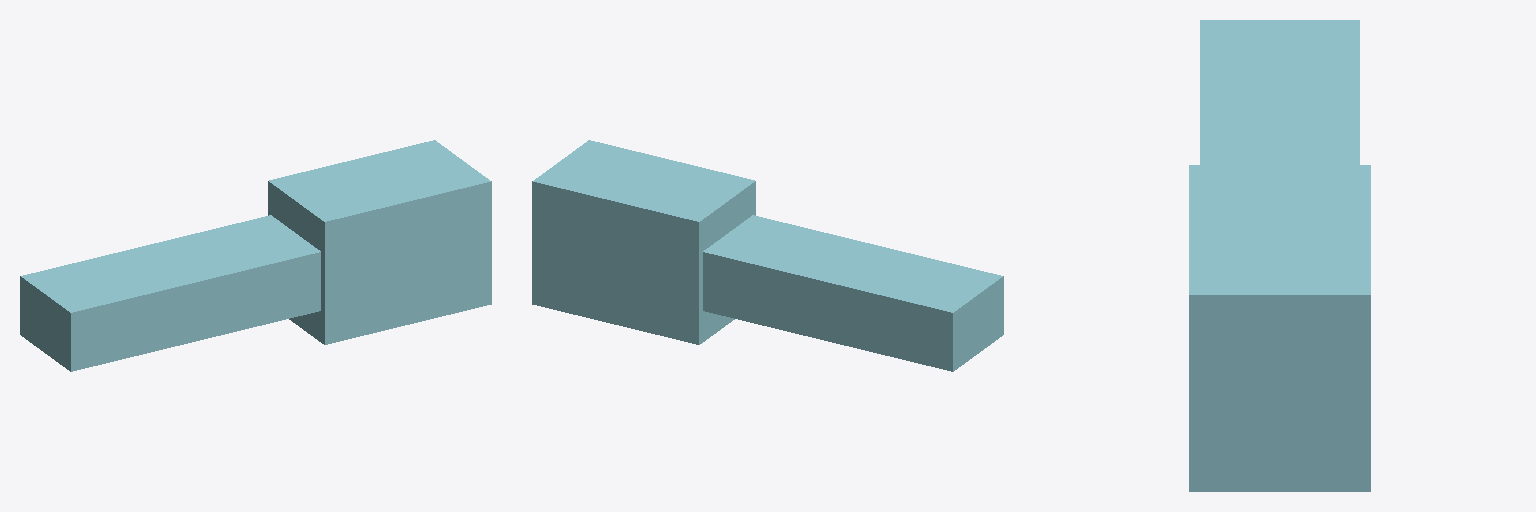
URDF robot description (cuboid_brush_v8015):
<?xml version="1.0"?>
<robot name="cuboid_brush_v8015">

  <link name="cuboid_brush_v8015">
    <!-- Handle -->
    <visual>
      <origin xyz="0 0 0" rpy="0 0 0"/>
      <geometry>
        <box size="0.09775986767426895 0.03397640566724473 0.02201467837725285"/>
      </geometry>
      <material name="material">
        <color rgba="0.639 0.847 0.882 1.0"/>
      </material>
    </visual>
    <collision>
      <origin xyz="0 0 0" rpy="0 0 0"/>
      <geometry>
        <box size="0.09775986767426895 0.03397640566724473 0.02201467837725285"/>
      </geometry>
    </collision>

    <!-- Head -->
    <visual>
      <origin xyz="0.08145238317002353 0 0" rpy="0 0 0"/>
      <geometry>
        <box size="0.0651448986657781 0.03828052187578473 0.04588178171817808"/>
      </geometry>
      <material name="material">
        <color rgba="0.639 0.847 0.882 1.0"/>
      </material>
    </visual>
    <collision>
      <origin xyz="0.08145238317002353 0 0" rpy="0 0 0"/>
      <geometry>
        <box size="0.0651448986657781 0.03828052187578473 0.04588178171817808"/>
      </geometry>
    </collision>

    <inertial>
      <density value="400.0"/>
    </inertial>
  </link>

</robot>

--- Facts derived from the render (not from the file) ---
3 views of the same robot in one strip: view 1: azimuth 30°, elevation 25°; view 2: azimuth 150°, elevation 25°; view 3: azimuth 270°, elevation 25° (orthographic).
Robot: cuboid_brush_v8015 — 1 links, 0 joints (none); root link cuboid_brush_v8015; default pose: all joints at 0.
Visible links, largest first — view 1: cuboid_brush_v8015; view 2: cuboid_brush_v8015; view 3: cuboid_brush_v8015.
Link boxes in pixels (x1,y1,x2,y2): cuboid_brush_v8015: (20,140,491,371); cuboid_brush_v8015: (532,140,1003,371); cuboid_brush_v8015: (1189,20,1370,491).
Size in the robot's own frame: 0.1629 by 0.0383 by 0.0459 metres.
Geometry: primitives only (box / cylinder / sphere), no mesh files.
